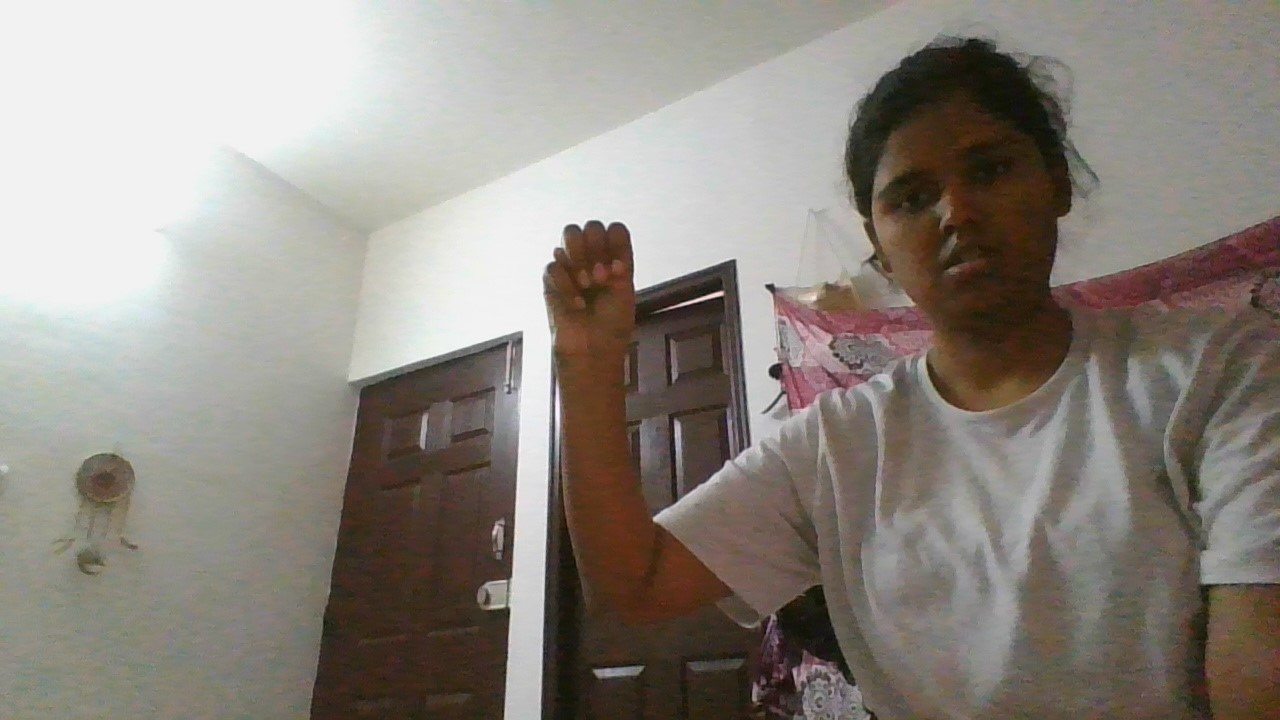m: (521, 216, 654, 386)
